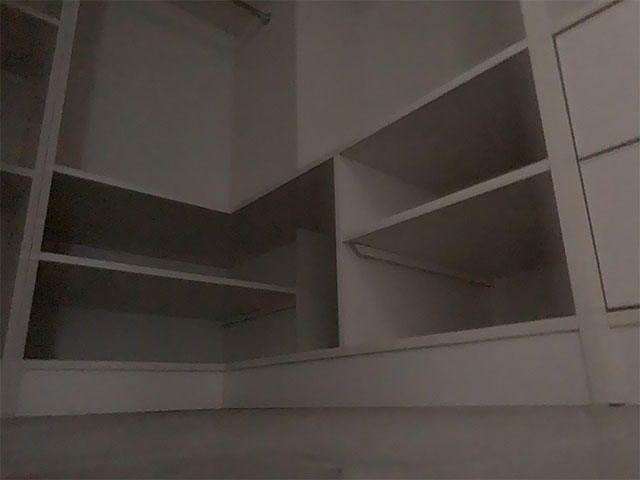cabinet: (235, 35, 640, 410), (1, 148, 231, 419)
